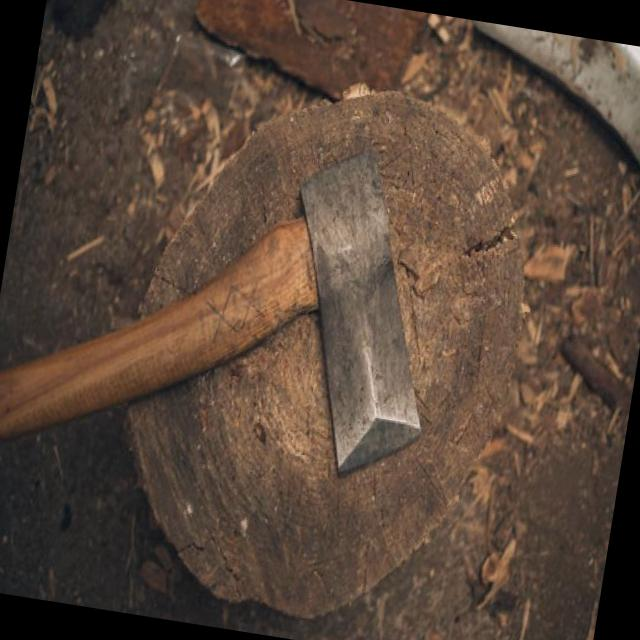Axe: (0, 154, 421, 474)
